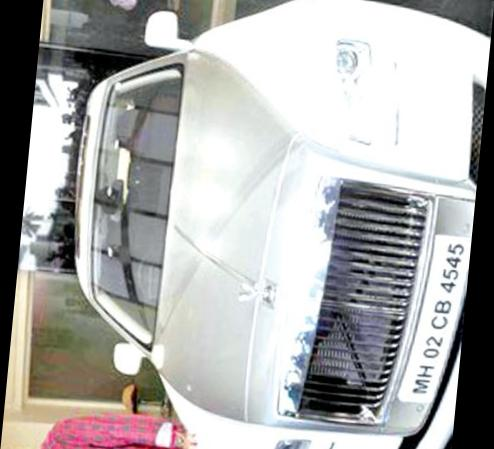plate: (388, 198, 474, 411)
